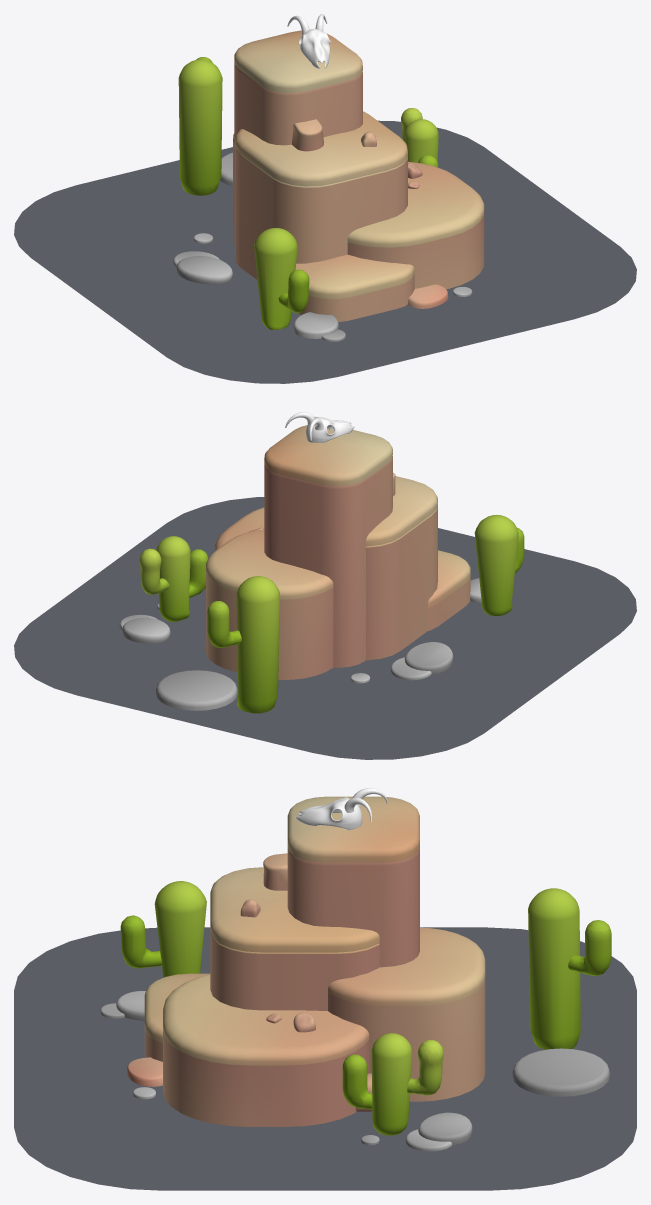
The model's file is desert_rock.glb.
The picture shows the model from 3 angles, top to bottom: view 1: azimuth 30°, elevation 25°; view 2: azimuth 150°, elevation 25°; view 3: azimuth 270°, elevation 25°; orthographic projection. The views are drawn at different scales.
Parts seen in each view (by area): view 1: Plane, Cube.001, Cube.002, Cube.006, Cube.003, Cube.008, Sphere.002, Mball.014, Mball.001, Cylinder.007, Sphere, Cylinder (+2 smaller); view 2: Plane, Cube.001, Cube.004, Cube.002, Sphere.002, Mball.001, Mball.014, Cylinder.004, Cube.003, Cube.008, Cylinder.007, Sphere (+3 smaller); view 3: Plane, Cube.006, Cube.001, Cube.004, Sphere.002, Cube.002, Cube.003, Mball.001, Mball.014, Cylinder.004, Cube.008, Sphere (+5 smaller).
Part boxes in pixels (x1,y1,x2,y2): Plane: [14, 120, 636, 383]; Cube.001: [234, 30, 362, 245]; Cube.002: [235, 145, 407, 279]; Cube.006: [347, 161, 484, 289]; Cube.003: [235, 111, 407, 187]; Cube.008: [295, 254, 414, 322]; Sphere.002: [178, 57, 222, 195]; Mball.014: [254, 228, 309, 329]; Mball.001: [401, 108, 438, 167]; Cylinder.007: [176, 256, 232, 284]; Sphere: [287, 14, 330, 68]; Cylinder: [293, 312, 338, 338]; Plane: [14, 497, 636, 759]; Cube.001: [264, 425, 392, 667]; Cube.004: [206, 529, 333, 679]; Cube.002: [366, 505, 437, 660]; Sphere.002: [207, 576, 279, 713]; Mball.001: [139, 536, 208, 621]; Mball.014: [474, 515, 524, 615]; Cylinder.004: [156, 670, 237, 710]; Cube.003: [366, 476, 437, 547]; Cube.008: [428, 550, 470, 630]; Cylinder.007: [404, 642, 453, 673]; Sphere: [285, 412, 354, 442]; Plane: [14, 927, 636, 1190]; Cube.006: [163, 974, 369, 1126]; Cube.001: [287, 796, 419, 967]; Cube.004: [328, 927, 485, 1101]; Sphere.002: [528, 888, 611, 1049]; Cube.002: [210, 933, 379, 1010]; Cube.003: [210, 867, 379, 953]; Mball.001: [342, 1033, 443, 1135]; Mball.014: [120, 881, 206, 977]; Cylinder.004: [512, 1048, 609, 1096]; Cube.008: [144, 973, 209, 1061]; Sphere: [295, 788, 387, 830].
Bounding box in the file's own units: 9.4 × 4.59 × 9.4.
